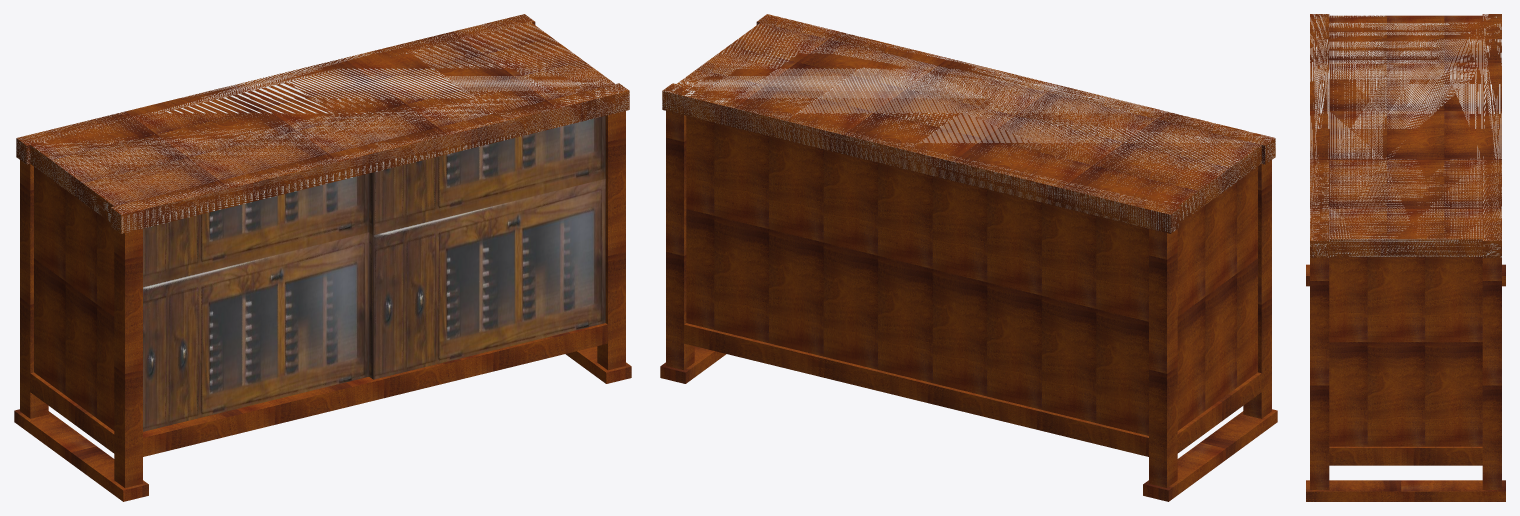
The picture shows the model from 3 angles, left to right: view 1: azimuth 30°, elevation 25°; view 2: azimuth 150°, elevation 25°; view 3: azimuth 270°, elevation 25°; orthographic projection. The views are drawn at different scales.
Parts seen in each view (by area): view 1: mesh5_mesh5-geometry, mesh17_mesh17-geometry, mesh16_mesh16-geometry, mesh13_mesh13-geometry, mesh9_mesh9-geometry, mesh2_mesh2-geometry, mesh8_mesh8-geometry, mesh3_mesh3-geometry, mesh1_mesh1-geometry, mesh4_mesh4-geometry, mesh18_mesh18-geometry; view 2: mesh15_mesh15-geometry, mesh5_mesh5-geometry, mesh13_mesh13-geometry, mesh10_mesh10-geometry, mesh3_mesh3-geometry, mesh6_mesh6-geometry, mesh2_mesh2-geometry, mesh1_mesh1-geometry, mesh4_mesh4-geometry, mesh18_mesh18-geometry; view 3: mesh5_mesh5-geometry, mesh14_mesh14-geometry, mesh6_mesh6-geometry, mesh8_mesh8-geometry, mesh18_mesh18-geometry, mesh7_mesh7-geometry.
Boxes of the visible parts, x1,y1,x2,y2 form: mesh5_mesh5-geometry: [16, 14, 629, 233]; mesh17_mesh17-geometry: [369, 116, 605, 379]; mesh16_mesh16-geometry: [143, 173, 369, 431]; mesh13_mesh13-geometry: [34, 167, 114, 430]; mesh9_mesh9-geometry: [143, 323, 607, 456]; mesh2_mesh2-geometry: [114, 228, 142, 487]; mesh8_mesh8-geometry: [597, 111, 625, 369]; mesh3_mesh3-geometry: [20, 160, 48, 418]; mesh1_mesh1-geometry: [14, 409, 148, 501]; mesh4_mesh4-geometry: [30, 372, 114, 453]; mesh18_mesh18-geometry: [565, 346, 631, 383]; mesh15_mesh15-geometry: [686, 116, 1148, 435]; mesh5_mesh5-geometry: [662, 14, 1275, 233]; mesh13_mesh13-geometry: [1177, 167, 1257, 430]; mesh10_mesh10-geometry: [684, 323, 1148, 456]; mesh3_mesh3-geometry: [1149, 228, 1177, 487]; mesh6_mesh6-geometry: [666, 111, 694, 369]; mesh2_mesh2-geometry: [1243, 160, 1271, 418]; mesh1_mesh1-geometry: [1143, 409, 1277, 501]; mesh4_mesh4-geometry: [1177, 372, 1261, 453]; mesh18_mesh18-geometry: [660, 346, 726, 383]; mesh5_mesh5-geometry: [1310, 14, 1501, 258]; mesh14_mesh14-geometry: [1329, 256, 1482, 446]; mesh6_mesh6-geometry: [1482, 258, 1501, 489]; mesh8_mesh8-geometry: [1310, 258, 1329, 489]; mesh18_mesh18-geometry: [1306, 480, 1505, 501]; mesh7_mesh7-geometry: [1329, 446, 1482, 465].
Size of the model in its own units: 0.8373 by 0.4493 by 0.3115.
